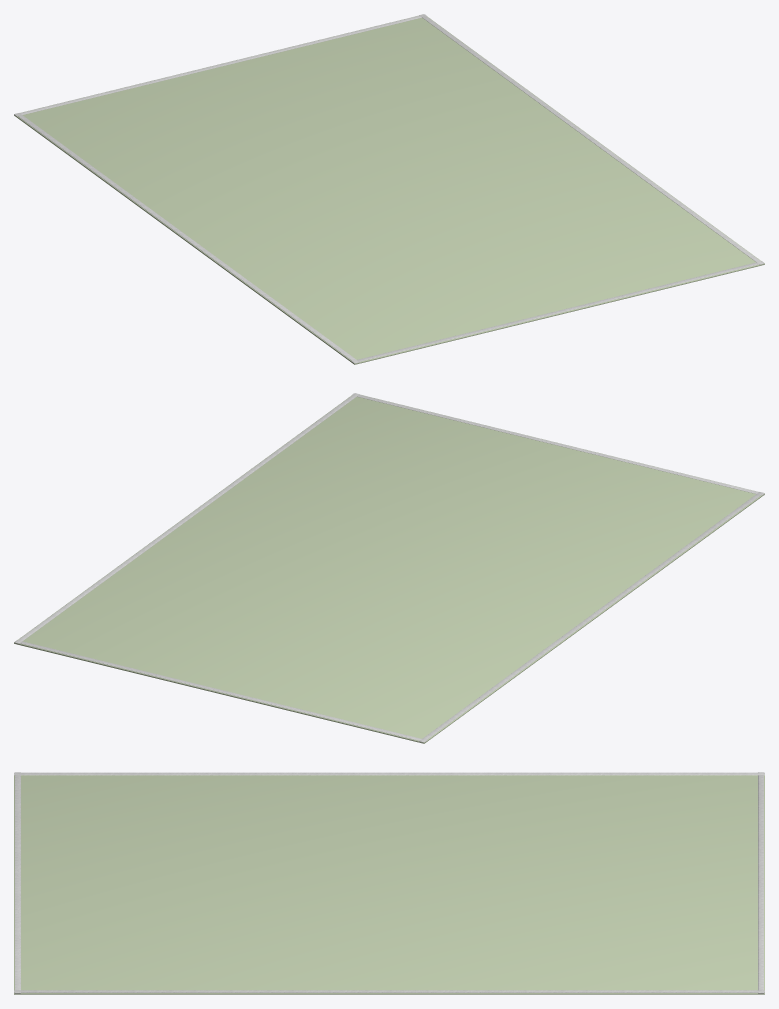
The model's file is low-pile-carpet.glb.
3 views of the same model, one above another, from view 1: azimuth 30°, elevation 25°; view 2: azimuth 150°, elevation 25°; view 3: azimuth 270°, elevation 25° (orthographic). The views are drawn at different scales.
Visible parts, largest first — view 1: catalog_surface_RealismUV; view 2: catalog_surface_RealismUV; view 3: catalog_surface_RealismUV.
Boxes of the visible parts, bbox=[...] form: catalog_surface_RealismUV: bbox=[14, 14, 764, 364]; catalog_surface_RealismUV: bbox=[14, 393, 764, 743]; catalog_surface_RealismUV: bbox=[14, 772, 764, 994].
Size of the model in its own units: 1.6 by 0.006 by 2.3.
2 materials, 1 textured.
